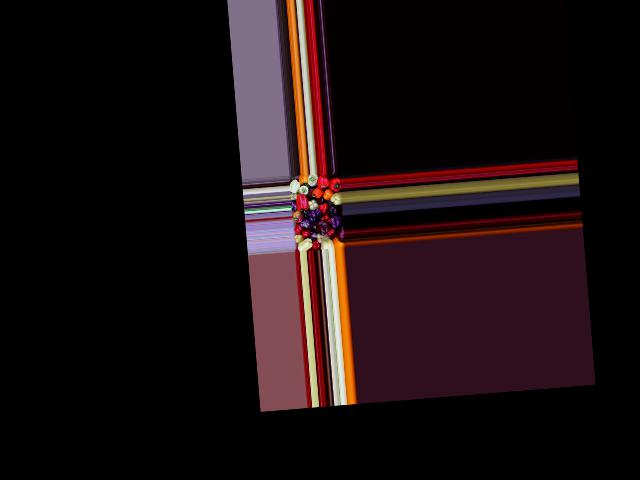bell_pepper: (308, 173, 318, 188)
